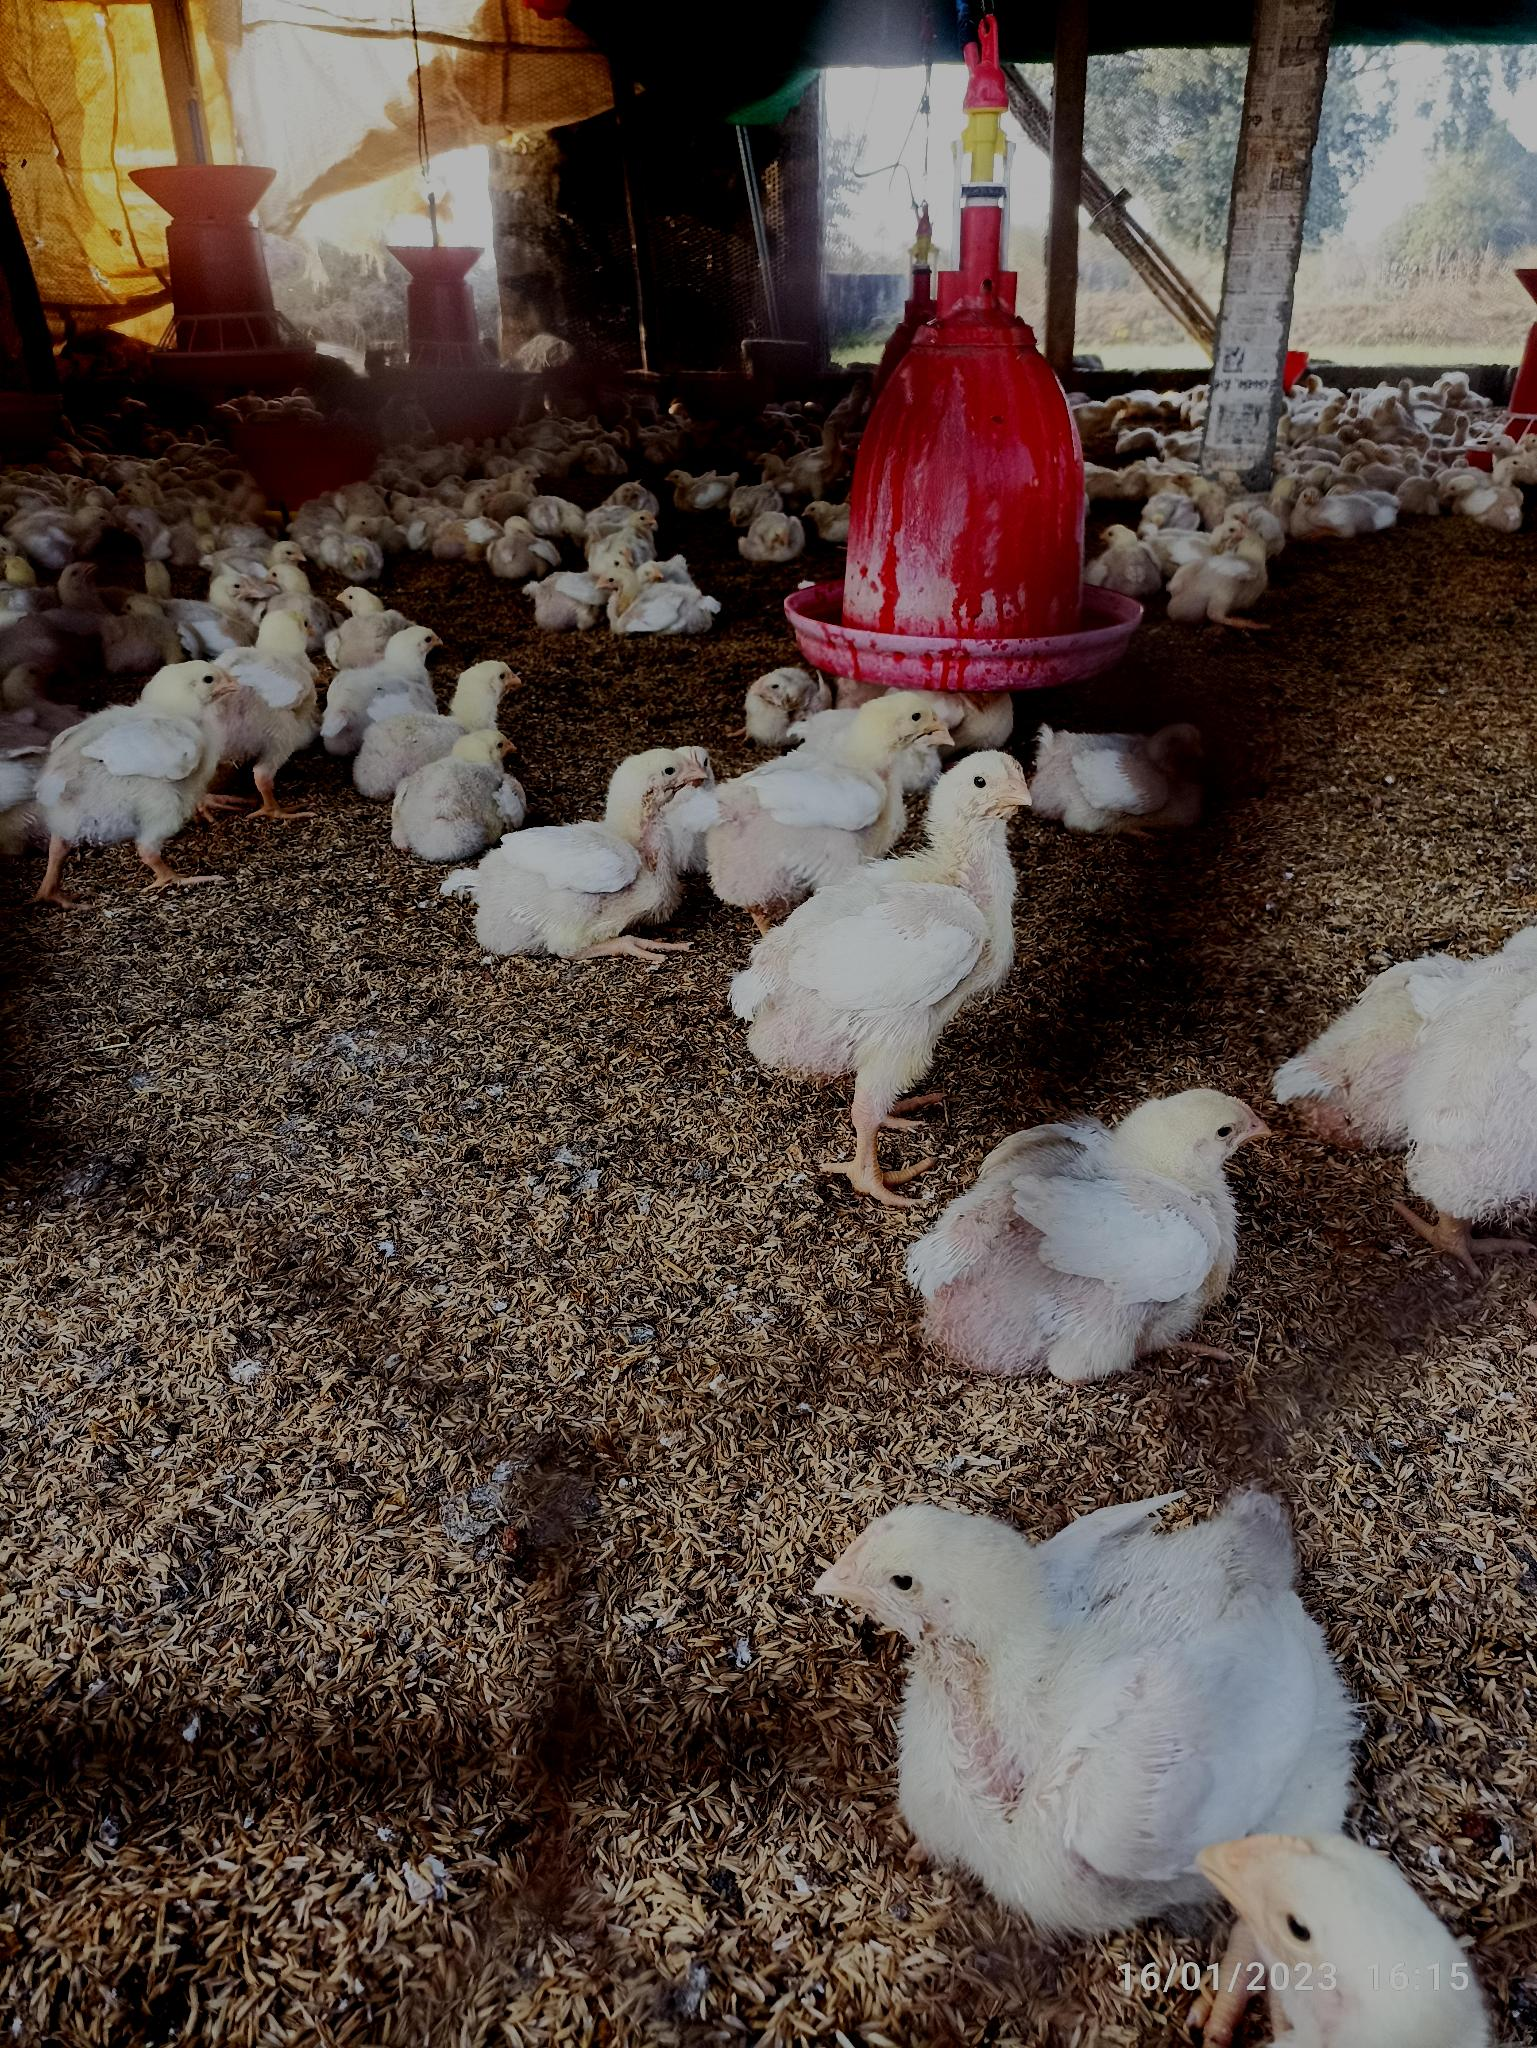Pollos: (809, 1490, 1387, 1845), (735, 744, 1028, 1131), (915, 1097, 1267, 1372), (468, 770, 701, 944), (48, 657, 232, 857), (723, 704, 936, 839), (1033, 704, 1203, 857), (354, 610, 450, 767), (224, 592, 316, 741), (421, 713, 512, 851), (1162, 523, 1272, 629), (601, 573, 710, 639), (484, 523, 554, 573), (743, 507, 802, 562)
